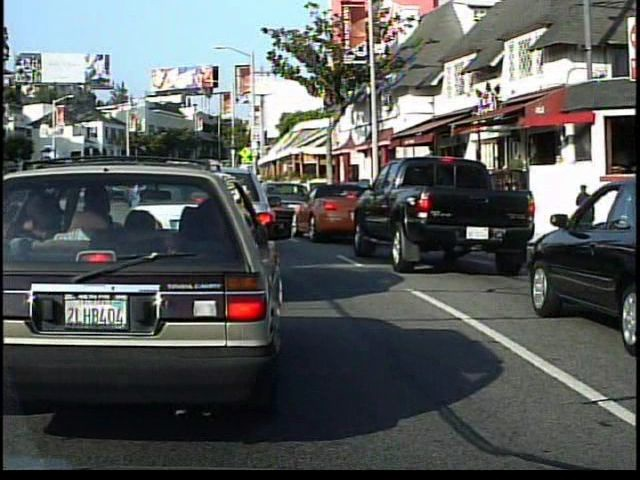person: (503, 149, 528, 201)
